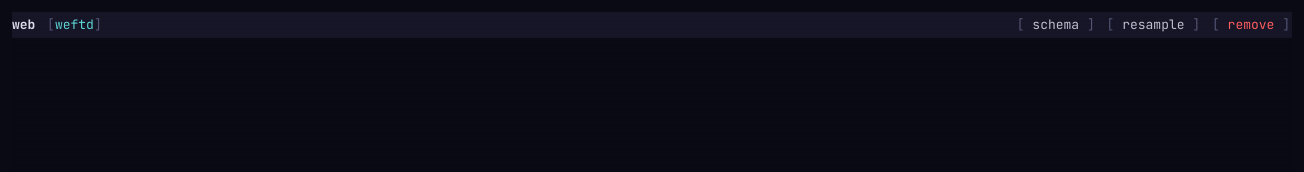
it: ConfiguredSourcesList schema panel › shows the preview instead of the YAML
What coordinates should you click on to do the following:
click the button with test id "configured-source-web-viewschema-button"
I would click on:
 (1056, 25)
Its box is [1015,15,1097,34].
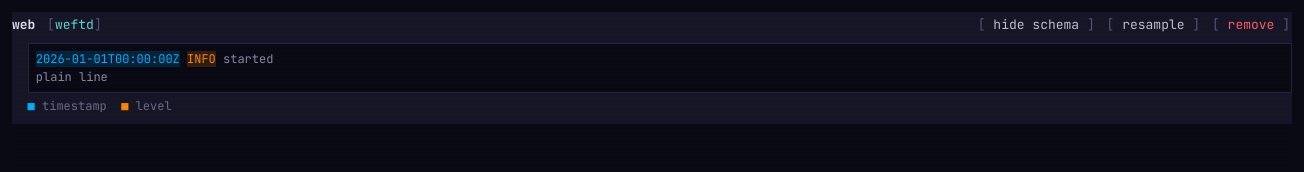
Expected: the element with test id "configured-source-web-schema-preview" is shown, [28,42,1292,114]
